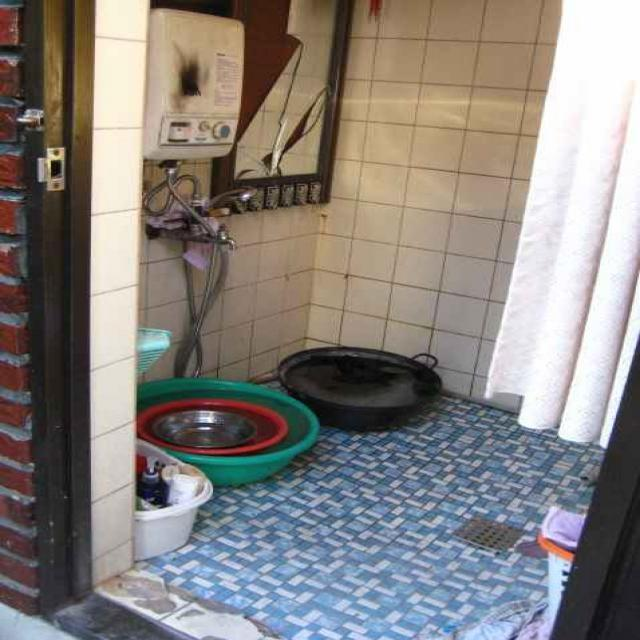Boiler: (128, 0, 272, 172)
